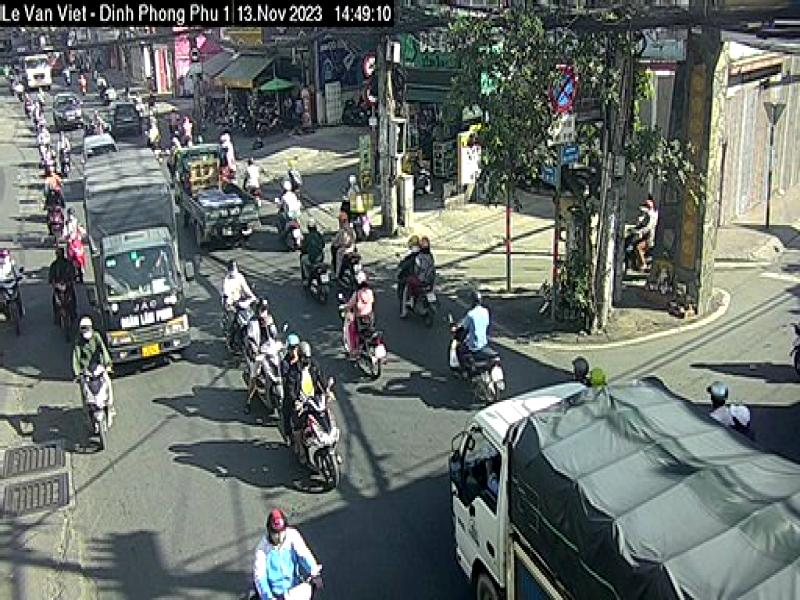truck: (446, 378, 800, 600), (80, 150, 197, 370)
